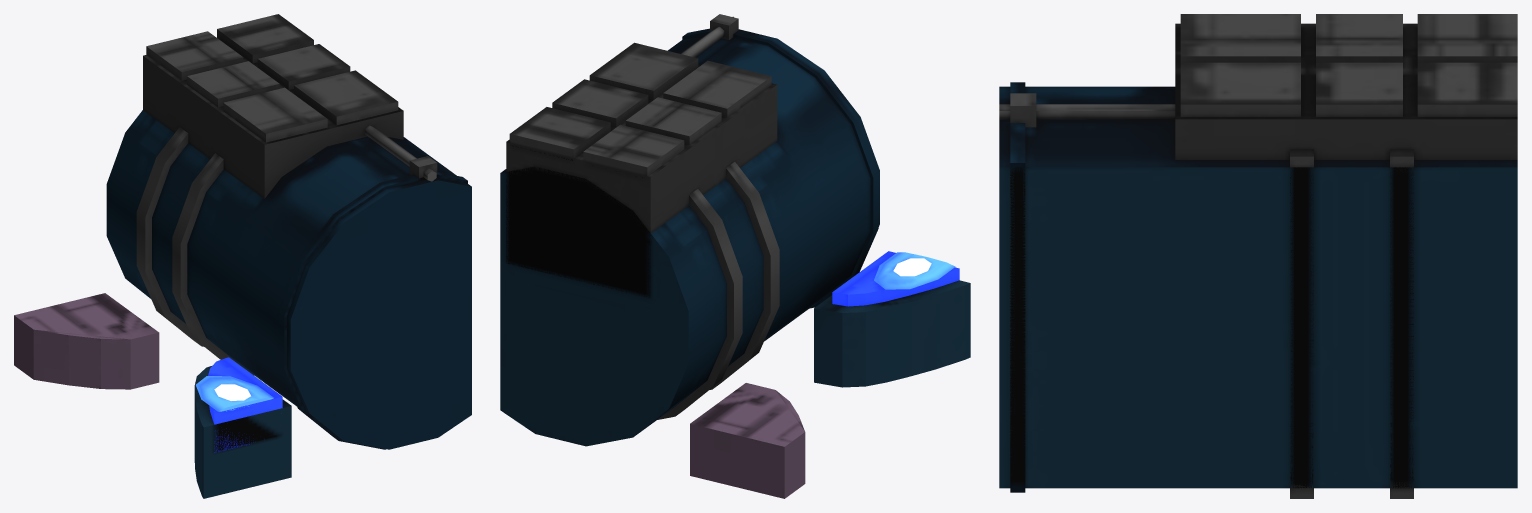
The model's file is newshb-41.glb.
3 renders of one model, left to right at view 1: azimuth 30°, elevation 25°; view 2: azimuth 150°, elevation 25°; view 3: azimuth 270°, elevation 25°, orthographic. The views are drawn at different scales.
Parts seen in each view (by area): view 1: newshb-41; view 2: newshb-41; view 3: newshb-41.
Boxes of the visible parts, x1,y1,x2,y2 form: newshb-41: [14, 14, 471, 498]; newshb-41: [500, 14, 970, 498]; newshb-41: [999, 14, 1517, 498].
Size of the model in its own units: 2 by 2.02 by 2.33.
Materials: 9 (9 with a texture image).
